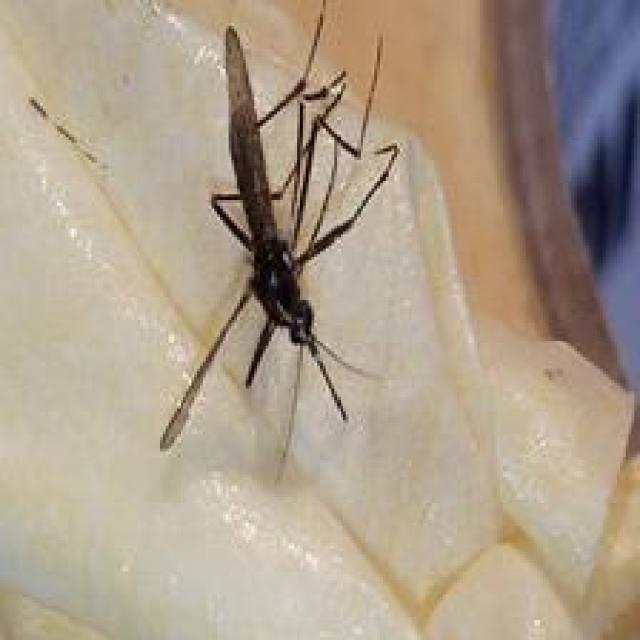Aedes albopictus: (156, 0, 401, 486)
